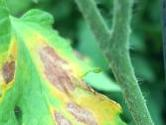Tomato Early blight leaf: (0, 0, 164, 125)
